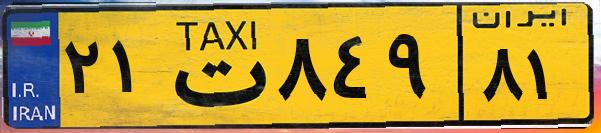1: (525, 38, 570, 115), (110, 28, 158, 98)
2: (57, 26, 110, 100)
4: (330, 28, 385, 110)
8: (270, 28, 330, 110), (475, 38, 525, 113)
9: (385, 28, 445, 110)
ت: (158, 12, 270, 120)
